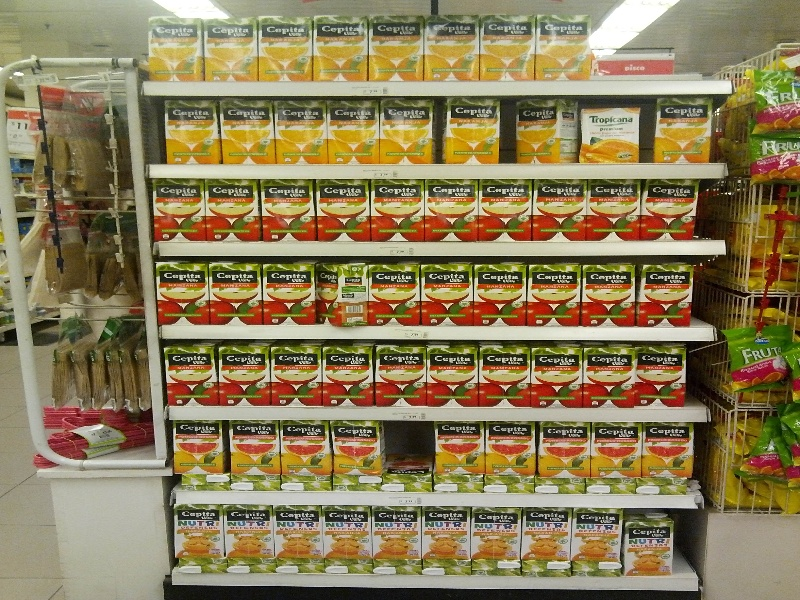juice: (636, 258, 700, 327), (257, 13, 316, 86), (651, 97, 712, 166), (369, 14, 428, 85), (441, 98, 502, 166), (203, 14, 261, 85), (524, 258, 583, 327), (275, 95, 330, 169), (424, 12, 482, 82), (217, 95, 275, 164), (366, 261, 425, 327), (162, 100, 222, 164), (418, 260, 475, 327), (314, 16, 370, 84), (483, 11, 535, 84), (535, 13, 590, 82), (378, 95, 433, 164), (473, 260, 527, 328), (327, 95, 380, 164), (583, 261, 638, 327), (148, 19, 204, 82), (624, 510, 677, 573), (638, 344, 690, 408), (331, 419, 386, 476)
